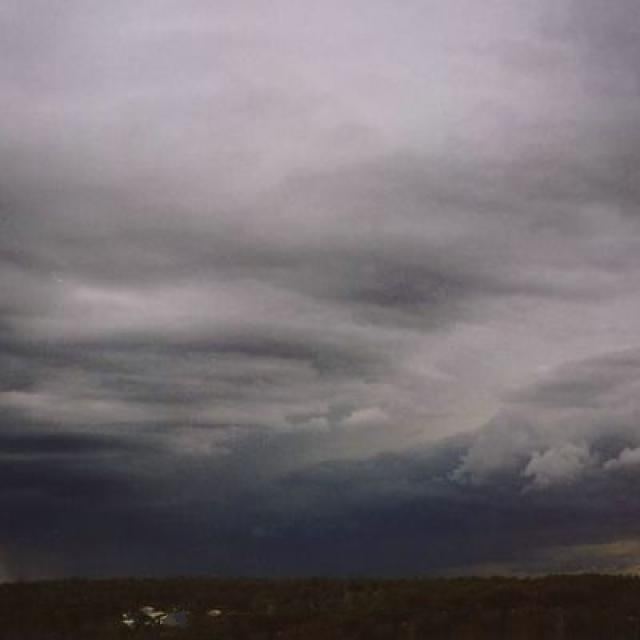Sc: (2, 47, 640, 554)
